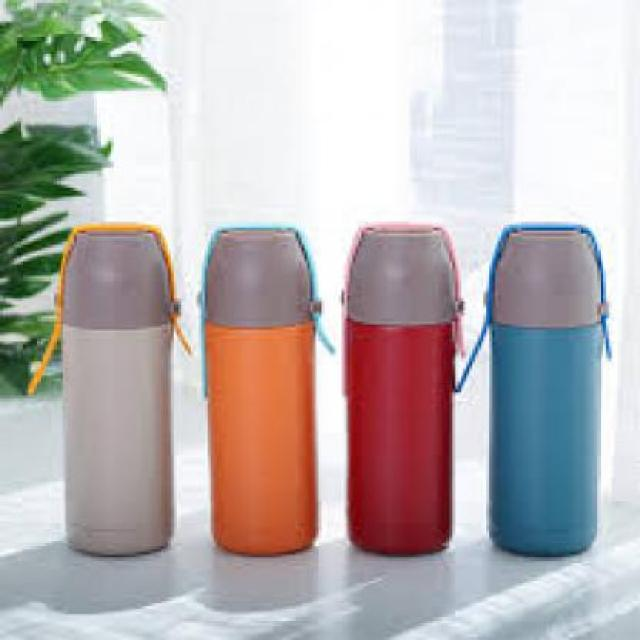Drinking: (46, 199, 186, 566), (197, 205, 332, 569), (484, 210, 614, 575), (347, 202, 455, 572)
